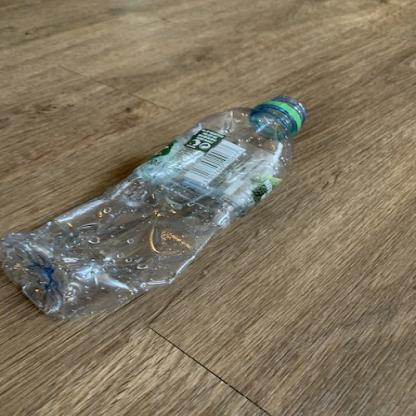trash: (2, 94, 310, 324)
